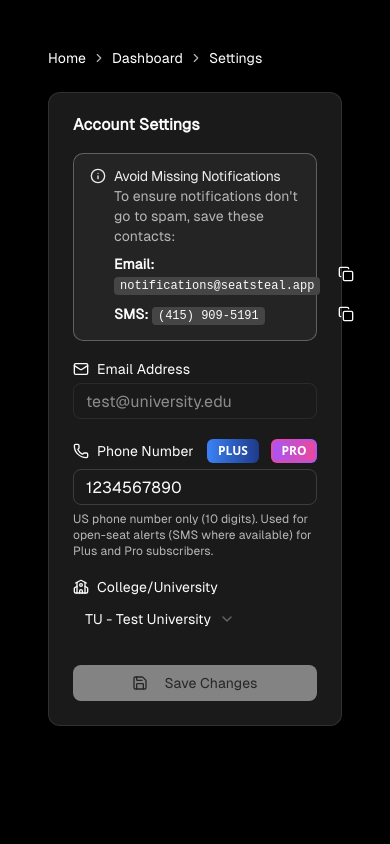
Test: Settings Page › Phone Validation › shows error for invalid phone number length
Type "123" into the field labelled "Phone Number PLUS PRO".
click(195, 487); type("123")  # box [73,469,317,505]
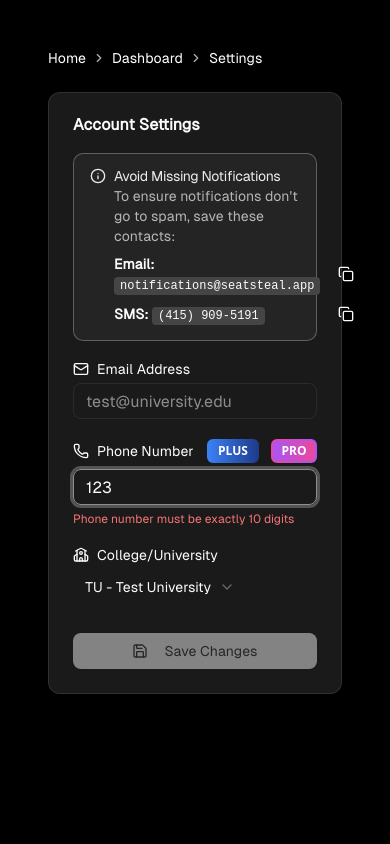
Result: the text "Phone number must be exactly 10 digits" is shown at [73,511,317,527]
